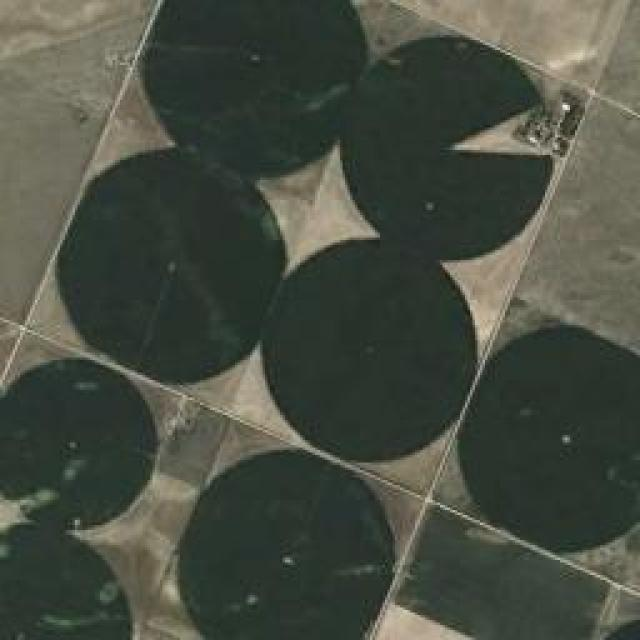Agriculture: (2, 2, 640, 640)
